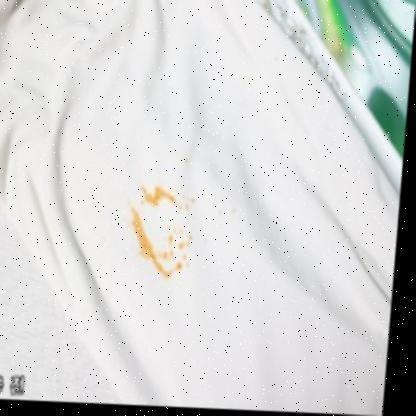kimchi: (149, 230, 199, 279), (130, 189, 196, 215), (127, 206, 152, 258)
